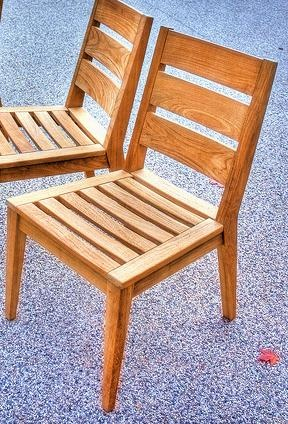obstacle: (1, 0, 286, 423)
